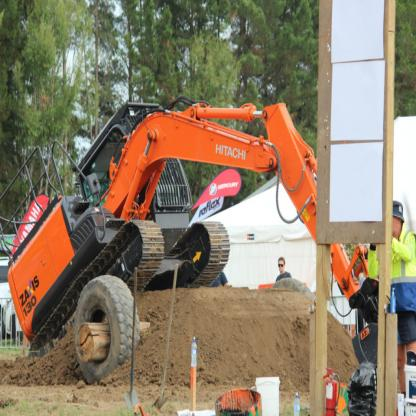excavator: (12, 70, 383, 377)
